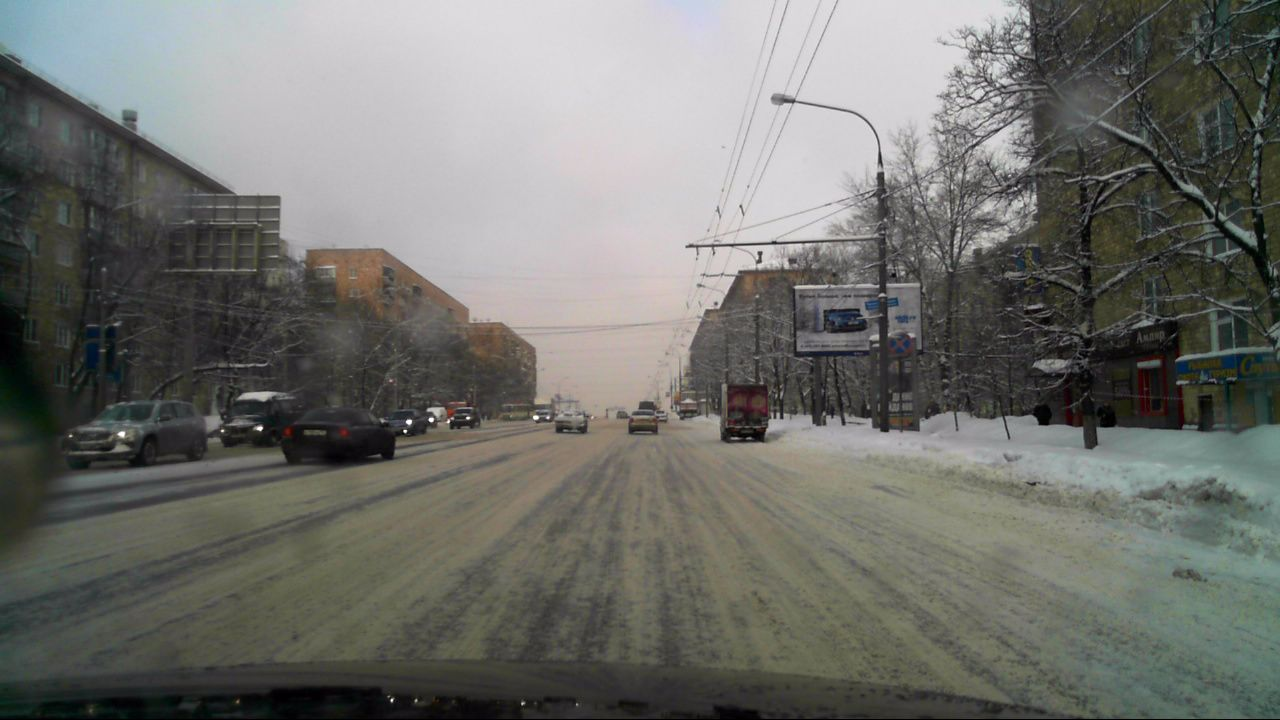No Parking: (887, 327, 916, 358)
